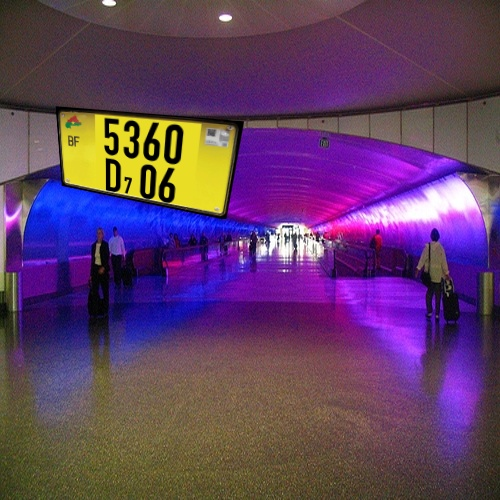plate: (45, 101, 253, 231)
